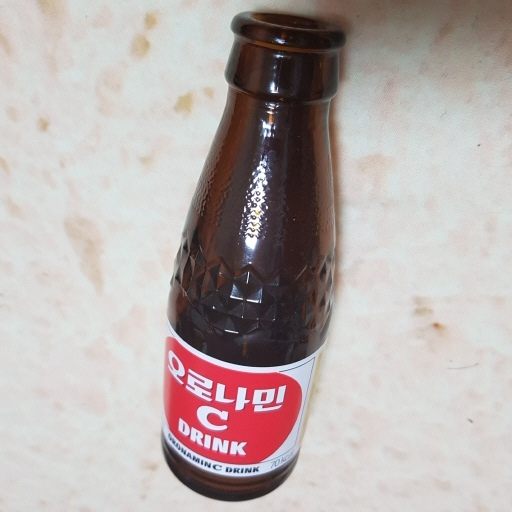Glass_3: (149, 6, 346, 502)
